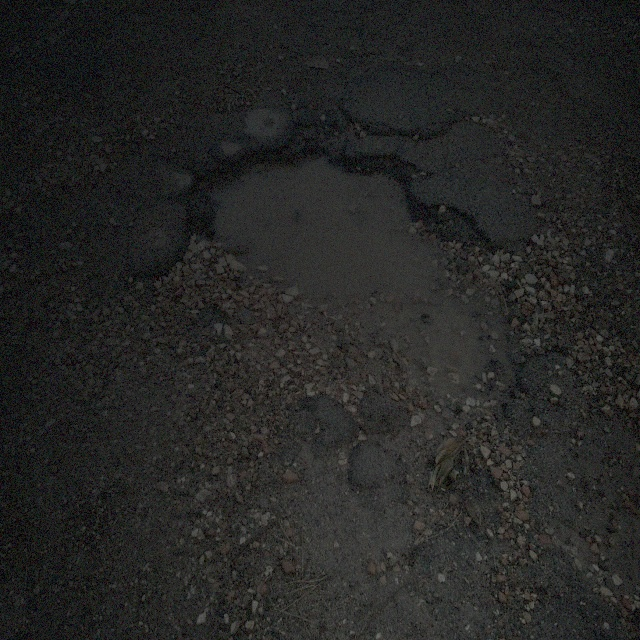pothole: (182, 142, 520, 425)
